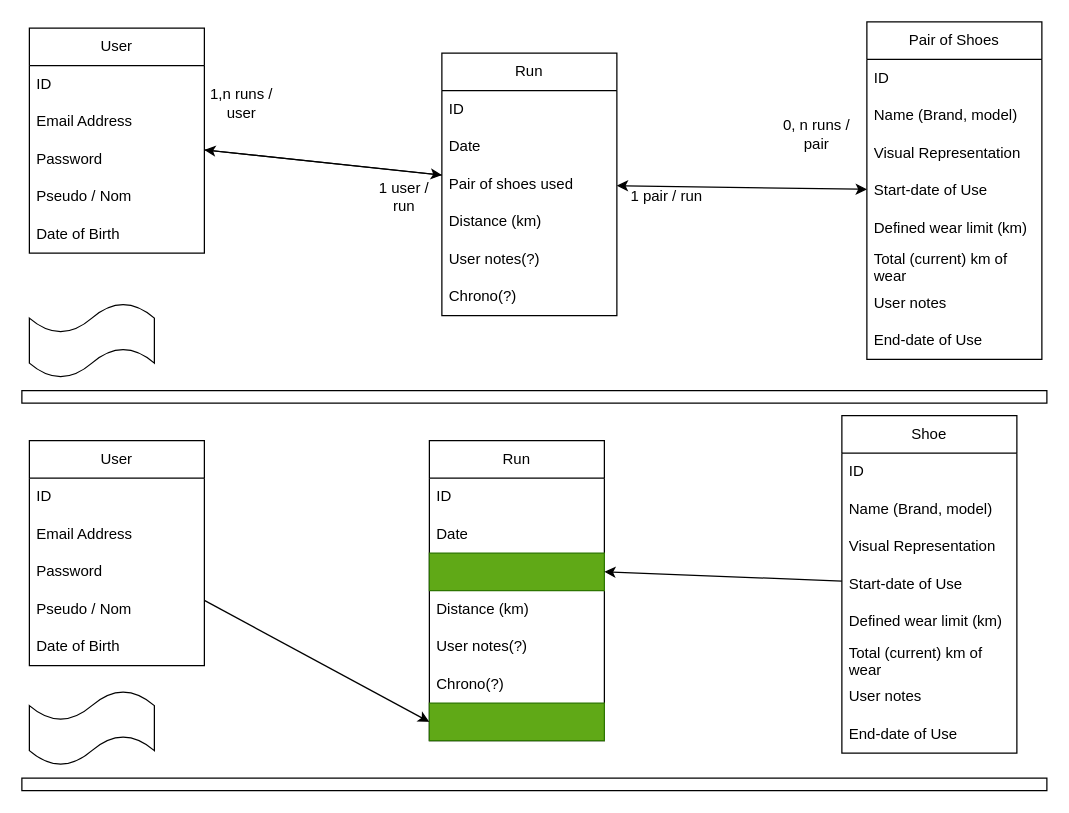
The diagram is 1069 pixels wide and 813 high, and some of its shapes have lost their labels. Each missing label, with the centre of its shape:
"Shoe ID" goes at pixel 516 571.
"User ID" goes at pixel 516 721.
